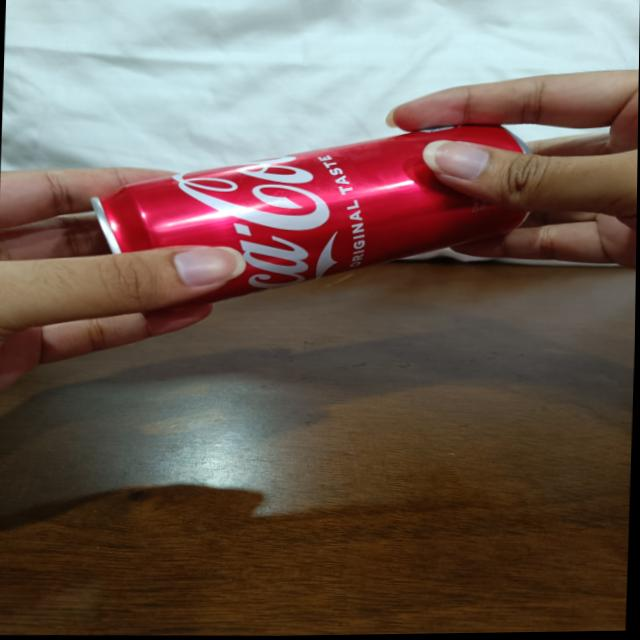coke: (105, 110, 538, 306)
